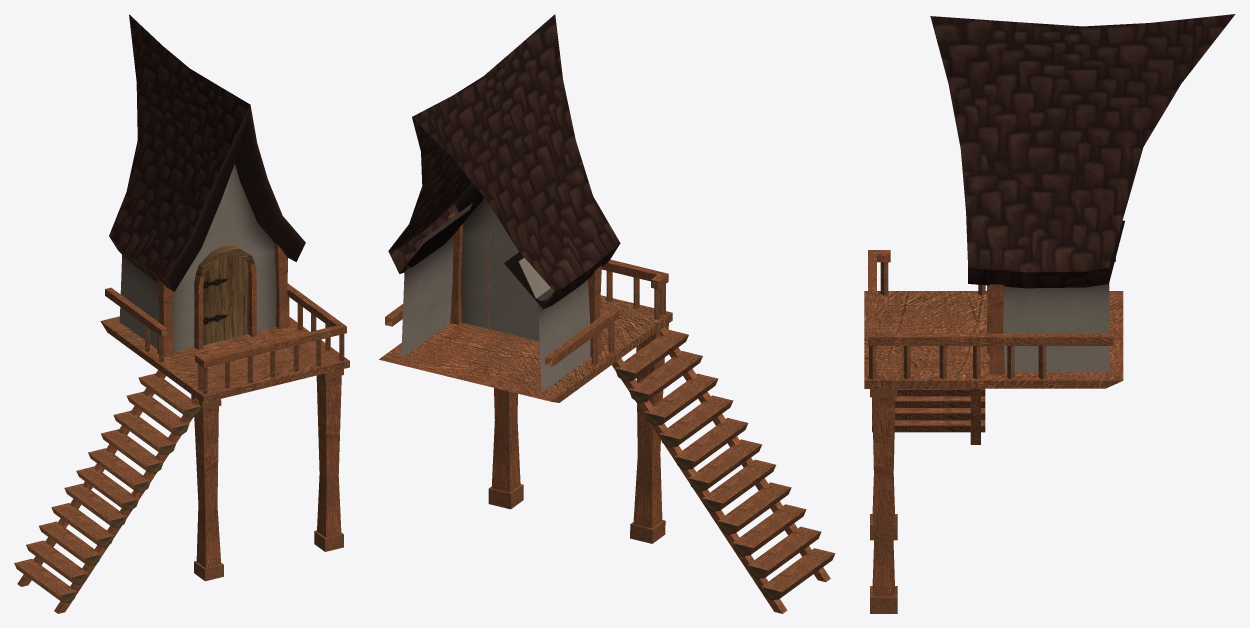
The model's file is fanasty_mod_entrance_door03.fbx.
The picture shows the model from 3 angles, left to right: view 1: azimuth 30°, elevation 25°; view 2: azimuth 150°, elevation 25°; view 3: azimuth 270°, elevation 25°; orthographic projection. The views are drawn at different scales.
Visible parts, largest first — view 1: entrance_door_03; view 2: entrance_door_03; view 3: entrance_door_03.
Boxes of the visible parts, box(x1,y1,x2,y2) form: entrance_door_03: box(14, 14, 349, 613); entrance_door_03: box(379, 14, 835, 613); entrance_door_03: box(864, 14, 1235, 613).
Size of the model in its own units: 7.07 by 10.43 by 6.3.
